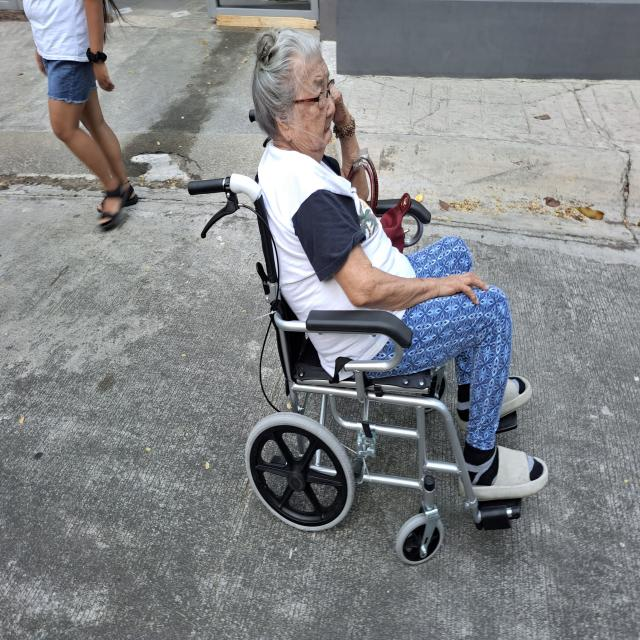wheelchairs: (175, 107, 544, 564)
